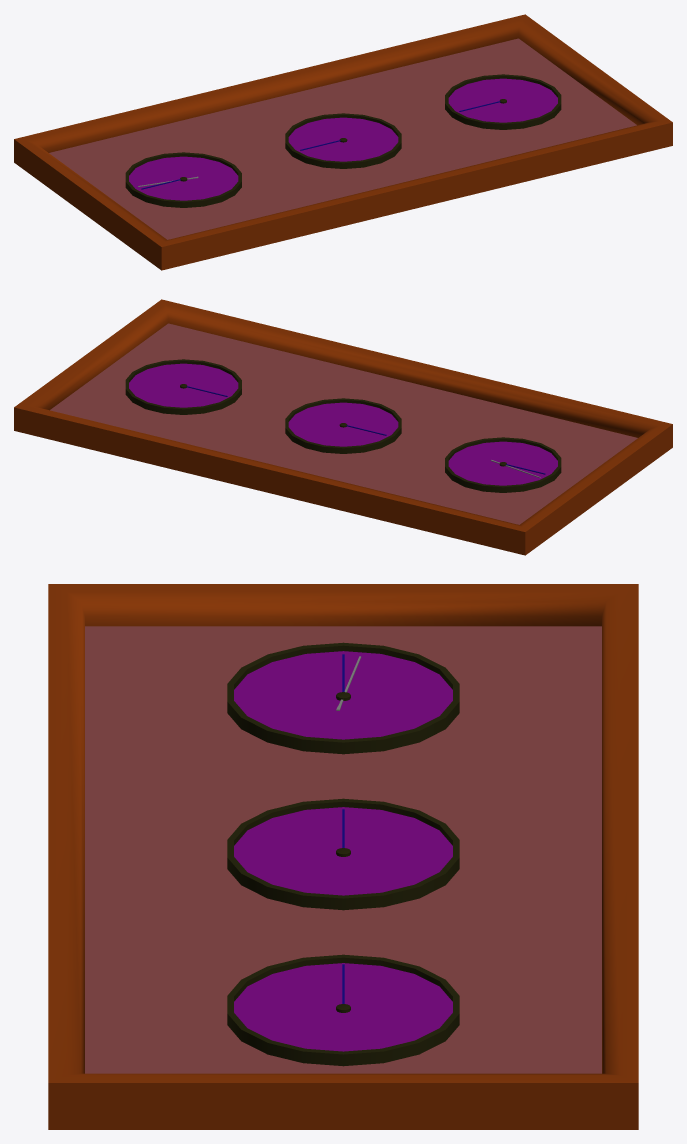
File: SM_Thermometres.fbx
3 renders of one model, top to bottom at view 1: azimuth 30°, elevation 25°; view 2: azimuth 150°, elevation 25°; view 3: azimuth 270°, elevation 25°, orthographic. The views are drawn at different scales.
Visible parts, largest first — view 1: SM_Thermometres_Frame, SM_Hygrometre, SM_Thermometre, SM_Barometre; view 2: SM_Thermometres_Frame, SM_Hygrometre, SM_Thermometre, SM_Barometre; view 3: SM_Thermometres_Frame, SM_Hygrometre, SM_Thermometre, SM_Barometre.
Boxes of the visible parts, x1,y1,x2,y2 form: SM_Thermometres_Frame: [14, 14, 672, 270]; SM_Hygrometre: [285, 113, 401, 168]; SM_Thermometre: [445, 74, 561, 129]; SM_Barometre: [125, 152, 241, 207]; SM_Thermometres_Frame: [14, 299, 672, 555]; SM_Hygrometre: [285, 398, 401, 453]; SM_Thermometre: [125, 359, 241, 414]; SM_Barometre: [445, 437, 561, 492]; SM_Thermometres_Frame: [48, 584, 638, 1129]; SM_Hygrometre: [227, 798, 459, 910]; SM_Thermometre: [227, 954, 459, 1066]; SM_Barometre: [227, 642, 459, 754].
Bounding box in the file's own units: 160 × 7 × 80.
